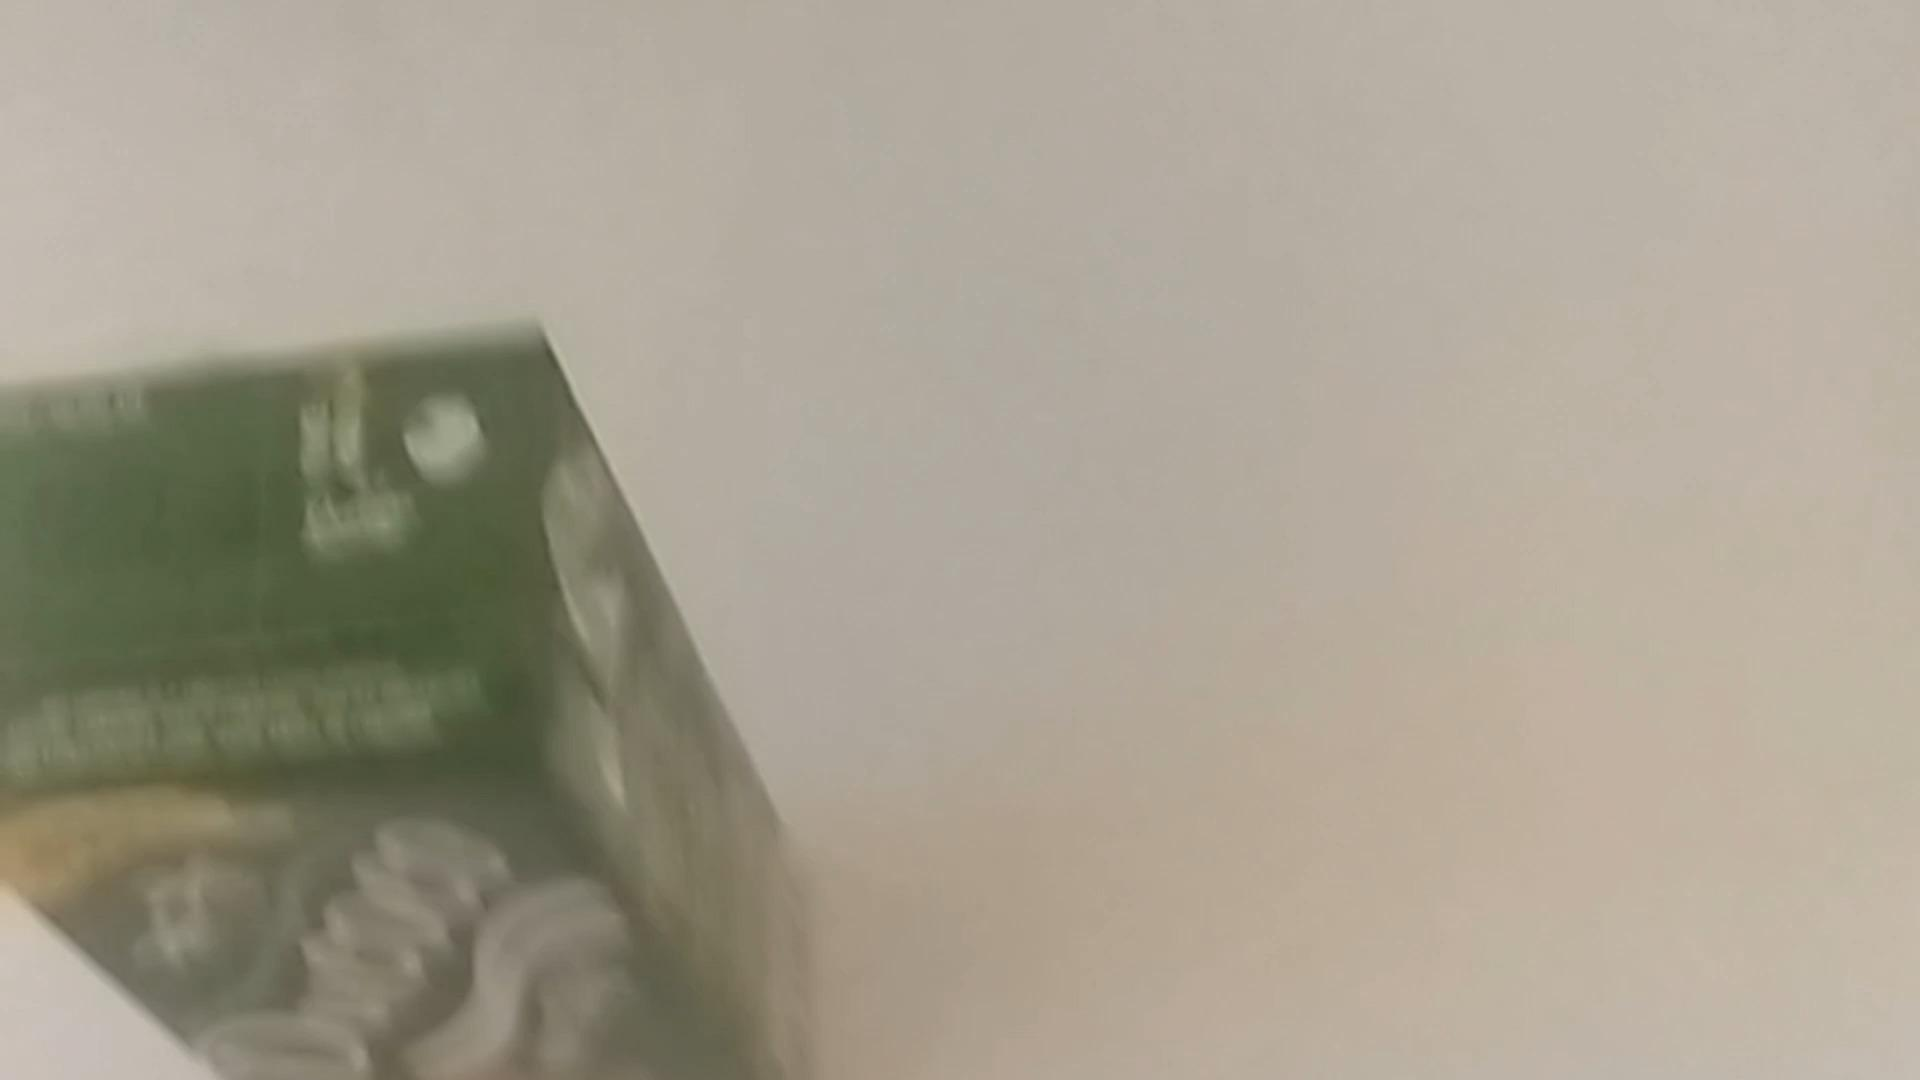coco: (17, 323, 845, 1080)
